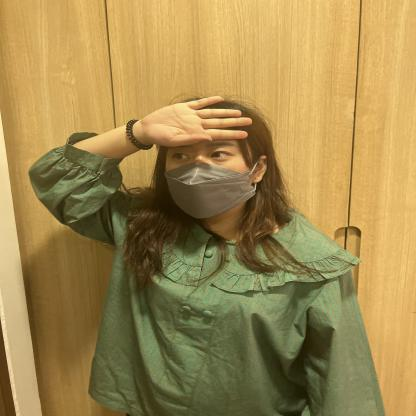Sick: (0, 78, 329, 200)
